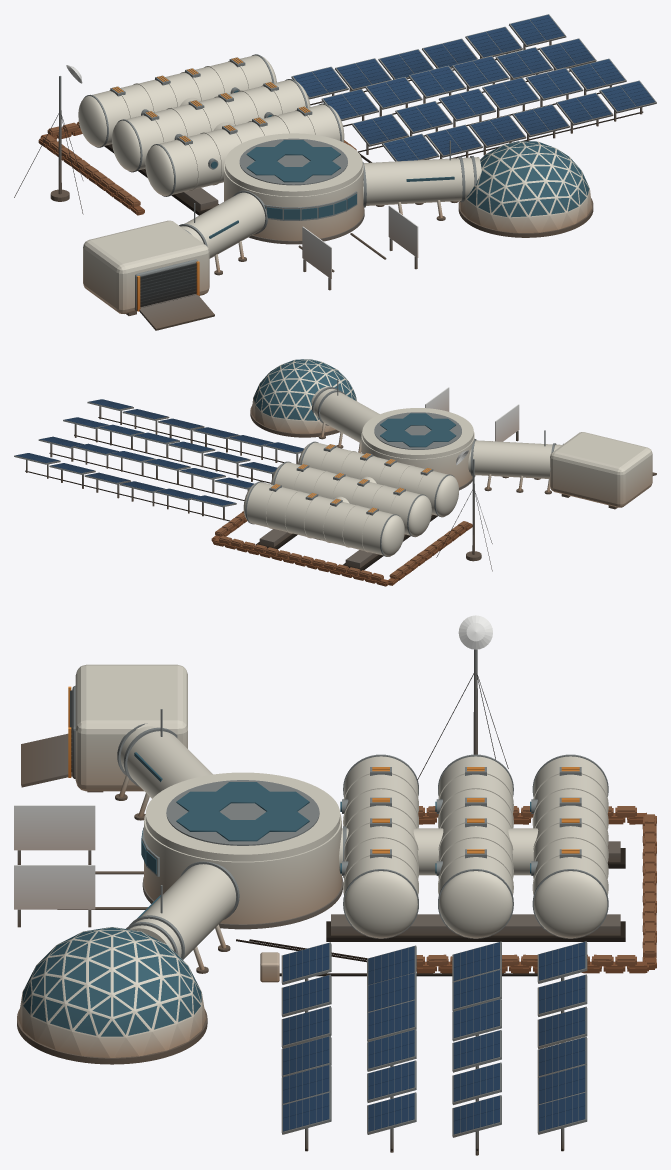
The picture shows the model from 3 angles, top to bottom: view 1: azimuth 30°, elevation 25°; view 2: azimuth 150°, elevation 25°; view 3: azimuth 270°, elevation 25°; orthographic projection. The views are drawn at different scales.
Parts seen in each view (by area): view 1: Campo solar · Celdas fotovoltaicas, Hangar · Revestimiento térmico, Campo solar · Aleación anodizada, Núcleo · Revestimiento térmico, Módulo 1 · Revestimiento térmico, Módulo 3 · Revestimiento térmico, Módulo 2 · Revestimiento térmico, Domo geodésico · Vidrio óptico, Domo geodésico · Revestimiento térmico, Corredor este · Revestimiento térmico, Núcleo · Vidrio óptico, Corredor oeste · Revestimiento térmico (+11 smaller); view 2: Módulo 3 · Revestimiento térmico, Hangar · Revestimiento térmico, Campo solar · Celdas fotovoltaicas, Módulo 2 · Revestimiento térmico, Módulo 1 · Revestimiento térmico, Campo solar · Aleación anodizada, Núcleo · Revestimiento térmico, Domo geodésico · Vidrio óptico, Corredor oeste · Revestimiento térmico, Domo geodésico · Revestimiento térmico, Corredor este · Revestimiento térmico, Núcleo · Vidrio óptico (+8 smaller); view 3: Campo solar · Celdas fotovoltaicas, Núcleo · Revestimiento térmico, Módulo 3 · Revestimiento térmico, Domo geodésico · Vidrio óptico, Módulo 2 · Revestimiento térmico, Módulo 1 · Revestimiento térmico, Campo solar · Aleación anodizada, Hangar · Revestimiento térmico, Domo geodésico · Revestimiento térmico, Núcleo · Vidrio óptico, Corredor este · Revestimiento térmico, Núcleo · Aleación anodizada (+15 smaller).
Boxes of the visible parts, <box> form: Campo solar · Celdas fotovoltaicas: <box>293,14,654,161</box>; Hangar · Revestimiento térmico: <box>83,220,209,313</box>; Campo solar · Aleación anodizada: <box>291,14,656,161</box>; Núcleo · Revestimiento térmico: <box>224,133,363,240</box>; Módulo 1 · Revestimiento térmico: <box>145,104,344,196</box>; Módulo 3 · Revestimiento térmico: <box>78,55,276,146</box>; Módulo 2 · Revestimiento térmico: <box>112,80,310,171</box>; Domo geodésico · Vidrio óptico: <box>466,141,589,217</box>; Domo geodésico · Revestimiento térmico: <box>460,141,591,232</box>; Corredor este · Revestimiento térmico: <box>363,157,481,217</box>; Núcleo · Vidrio óptico: <box>246,140,356,219</box>; Corredor oeste · Revestimiento térmico: <box>180,192,265,272</box>; Módulo 3 · Revestimiento térmico: <box>243,482,404,556</box>; Hangar · Revestimiento térmico: <box>550,432,652,507</box>; Campo solar · Celdas fotovoltaicas: <box>16,399,303,505</box>; Módulo 2 · Revestimiento térmico: <box>271,462,431,536</box>; Módulo 1 · Revestimiento térmico: <box>298,442,458,516</box>; Campo solar · Aleación anodizada: <box>14,399,301,520</box>; Núcleo · Revestimiento térmico: <box>361,408,474,487</box>; Domo geodésico · Vidrio óptico: <box>253,359,356,420</box>; Corredor oeste · Revestimiento térmico: <box>468,440,561,491</box>; Domo geodésico · Revestimiento térmico: <box>251,359,357,433</box>; Corredor este · Revestimiento térmico: <box>311,386,379,453</box>; Núcleo · Vidrio óptico: <box>380,413,456,447</box>; Campo solar · Celdas fotovoltaicas: <box>283,942,585,1134</box>; Núcleo · Revestimiento térmico: <box>144,772,341,924</box>; Módulo 3 · Revestimiento térmico: <box>532,756,608,938</box>; Domo geodésico · Vidrio óptico: <box>22,927,201,1036</box>; Módulo 2 · Revestimiento térmico: <box>438,756,513,938</box>; Módulo 1 · Revestimiento térmico: <box>343,756,418,938</box>; Campo solar · Aleación anodizada: <box>281,941,587,1155</box>; Hangar · Revestimiento térmico: <box>75,664,187,791</box>; Domo geodésico · Revestimiento térmico: <box>18,927,205,1057</box>; Núcleo · Vidrio óptico: <box>141,782,309,873</box>; Corredor este · Revestimiento térmico: <box>129,864,235,969</box>; Núcleo · Aleación anodizada: <box>142,780,343,929</box>.
Bounding box in the file's own units: 36.73 × 7.64 × 23.74.
